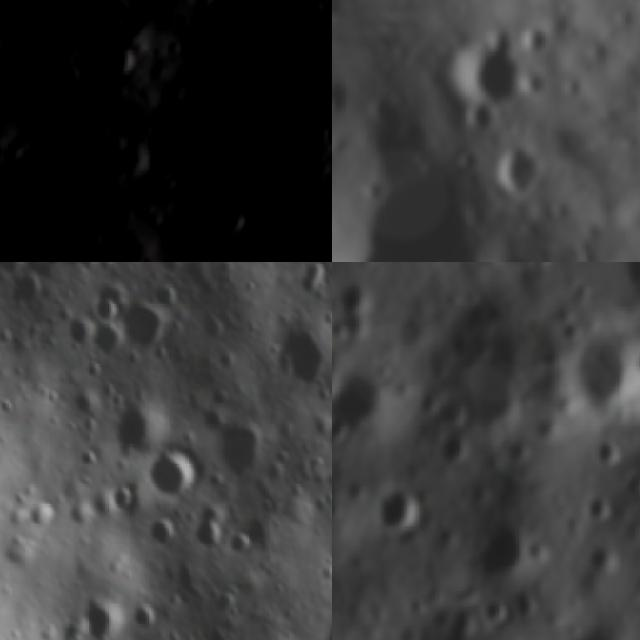crater: (332, 112, 516, 262), (435, 13, 542, 128), (473, 130, 561, 221), (564, 324, 640, 407), (467, 520, 535, 586), (50, 202, 121, 262), (332, 366, 391, 434), (91, 37, 149, 94), (332, 271, 376, 342), (278, 326, 326, 389), (219, 417, 268, 478), (375, 483, 424, 538), (107, 132, 158, 184), (454, 96, 505, 148), (148, 446, 196, 499), (124, 303, 170, 356), (366, 26, 428, 65), (119, 403, 171, 449), (75, 599, 128, 640), (510, 577, 546, 625), (436, 387, 477, 429), (471, 594, 514, 628), (189, 507, 225, 545), (219, 206, 255, 243), (60, 314, 94, 351), (10, 275, 49, 307), (0, 177, 28, 220), (92, 287, 124, 323), (132, 599, 164, 633), (592, 436, 624, 470), (72, 495, 101, 532), (584, 488, 612, 526), (614, 467, 640, 507), (437, 429, 465, 466), (302, 262, 326, 302), (109, 476, 136, 511), (314, 103, 332, 155), (30, 496, 55, 532), (198, 311, 224, 344), (93, 322, 117, 357), (213, 588, 244, 614), (226, 526, 252, 556), (0, 390, 20, 425), (153, 514, 174, 545), (80, 359, 105, 382), (75, 447, 98, 469), (215, 386, 227, 407)
